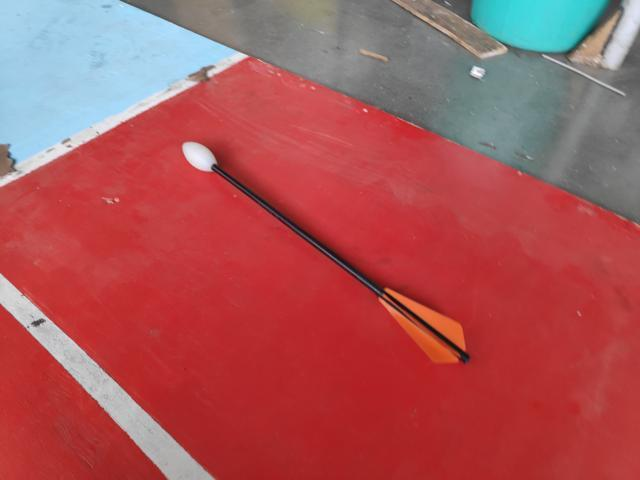Head: (179, 138, 222, 174)
Tail: (378, 288, 474, 364)
